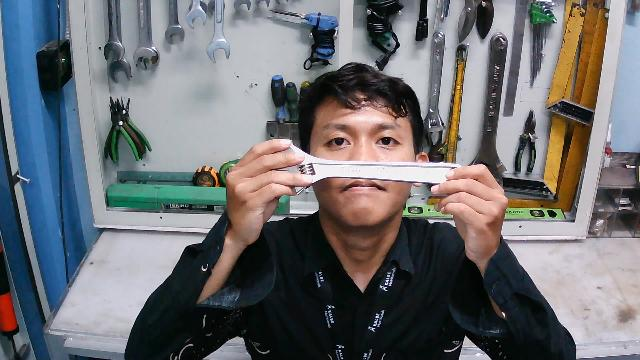kunci_inggris: (263, 137, 465, 198)
